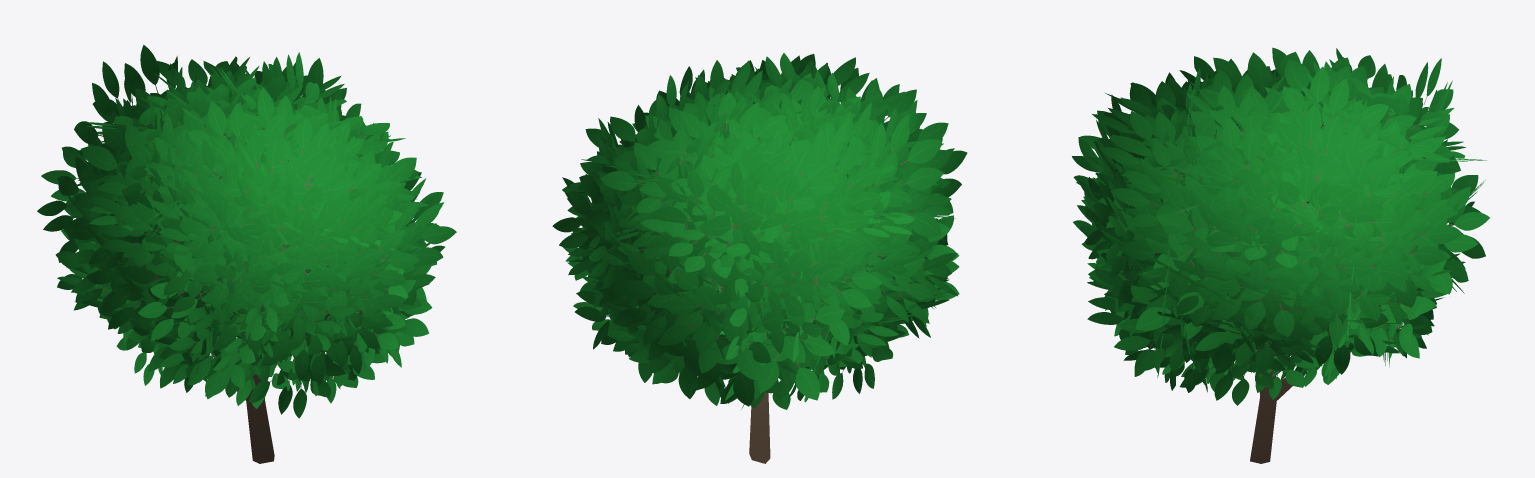
File: PT_Generic_Shrub_01_green.fbx
3 views of the same model, side by side, from view 1: azimuth 30°, elevation 25°; view 2: azimuth 150°, elevation 25°; view 3: azimuth 270°, elevation 25° (orthographic). The views are drawn at different scales.
Visible parts, largest first — view 1: PT_Generic_Shrub_01_LOD0; view 2: PT_Generic_Shrub_01_LOD0; view 3: PT_Generic_Shrub_01_LOD0.
Part boxes in pixels (box(x1,y1,x2,y2)): PT_Generic_Shrub_01_LOD0: box(37, 45, 456, 463); PT_Generic_Shrub_01_LOD0: box(552, 53, 967, 463); PT_Generic_Shrub_01_LOD0: box(1072, 47, 1489, 463).
Size of what is drawn, in the model's own units: 177 by 173 by 186.
